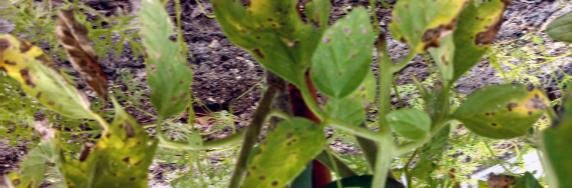Tomato Septoria leaf spot: (0, 36, 100, 121), (72, 101, 165, 188), (305, 6, 378, 99), (455, 73, 554, 141), (135, 0, 191, 118), (435, 0, 515, 81), (242, 111, 323, 188), (390, 0, 477, 55)
